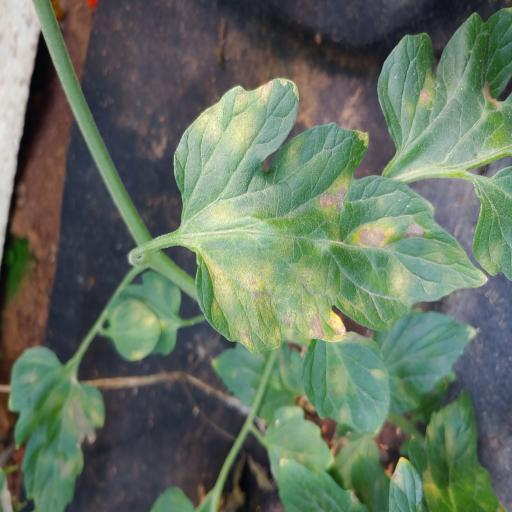disease_tomato: (172, 76, 488, 356), (300, 330, 390, 440)
